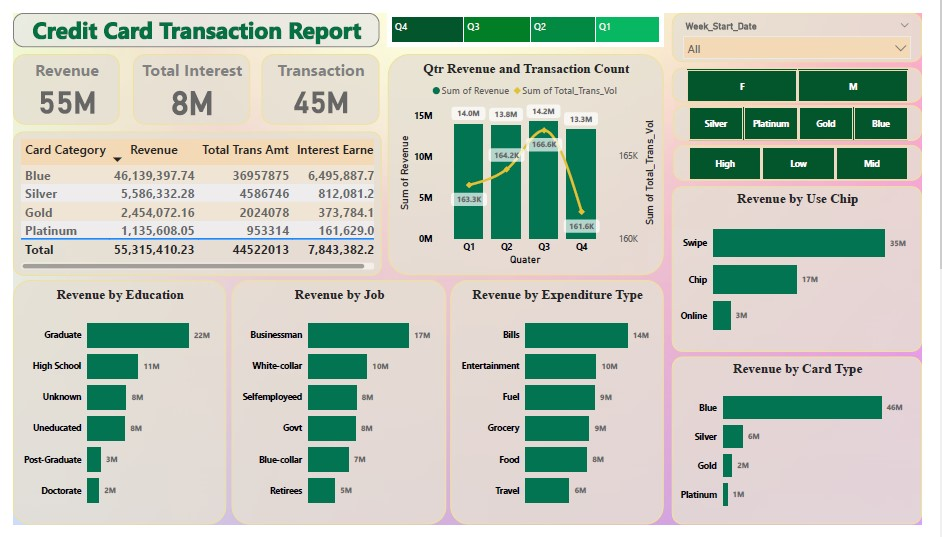

Layout of this report page (visuals, bound fields, positions):
{"tool":"powerbi","page":{"name":"Page 2","canvas":[1280,720],"ordinal":0},"visuals":[{"type":"textbox","box":[0,0,515.9,48.2],"z":0},{"type":"lineStackedColumnComboChart","title":"Qtr Revenue and Transaction Count","fields":{"Y":["Sum(ccdb credit_card.Revenue)"],"Category":["ccdb credit_card.Qtr"],"Y2":["Sum(ccdb credit_card.Total_Trans_Vol)"]},"box":[528.3,57.6,387.7,311.5],"z":1000},{"type":"barChart","title":"Revenue by Expenditure Type","fields":{"Y":["Sum(ccdb credit_card.Revenue)"],"Category":["ccdb credit_card.Exp Type"]},"box":[616.3,375.9,299.7,343.7],"z":2000},{"type":"barChart","title":"Revenue by Job","fields":{"Y":["Sum(ccdb credit_card.Revenue)"],"Category":["ccdb customer.Customer_Job"]},"box":[308.1,375.9,301.4,343.7],"z":3000},{"type":"barChart","title":"Revenue by Education","fields":{"Y":["Sum(ccdb credit_card.Revenue)"],"Category":["ccdb customer.Education_Level"]},"box":[0,375.6,300.5,344.4],"z":4000},{"type":"barChart","title":"Revenue by Card Type","fields":{"Y":["Sum(ccdb credit_card.Revenue)"],"Category":["ccdb credit_card.Card_Category"]},"box":[927.8,484.2,352.2,235.3],"z":5000},{"type":"barChart","title":"Revenue by Use Chip","fields":{"Y":["Sum(ccdb credit_card.Revenue)"],"Category":["ccdb credit_card.Use Chip"]},"box":[927.8,243.8,352.2,233.7],"z":6000},{"type":"tableEx","fields":{"Values":["ccdb credit_card.Card_Category","Sum(ccdb credit_card.Revenue)","Sum(ccdb credit_card.Total_Trans_Amt)","Sum(ccdb credit_card.Interest_Earned)"]},"box":[0,167.2,518.7,202.7],"z":7000},{"type":"card","title":"Revenue","fields":{"Values":["Sum(ccdb credit_card.Revenue)"]},"box":[0,58.1,150.2,99.2],"z":8000},{"type":"card","title":"Total Interest","fields":{"Values":["Sum(ccdb credit_card.Interest_Earned)"]},"box":[168.7,58.1,165.8,99.2],"z":9000},{"type":"card","title":"Transaction","fields":{"Values":["Sum(ccdb credit_card.Total_Trans_Amt)"]},"box":[350.1,58.1,165.8,99.2],"z":10000},{"type":"slicer","fields":{"Values":["ccdb credit_card.Week_Start_Date"]},"box":[928.3,0,351.5,69.4],"z":11000},{"type":"treemap","fields":{"Group":["ccdb credit_card.Qtr"],"Values":["Avg(ccdb credit_card.Client_Num)"]},"box":[528.3,0,387.7,47.4],"z":12000},{"type":"slicer","fields":{"Values":["ccdb customer.Gender"]},"box":[928.3,76.5,351.5,49.6],"z":13000},{"type":"slicer","fields":{"Values":["ccdb credit_card.Card_Category"]},"box":[929.8,130.4,350.1,50],"z":14000},{"type":"slicer","fields":{"Values":["ccdb customer.Income_group"]},"box":[929.8,185.7,350.1,50],"z":15000}]}

Visuals, with their boxes in screenshot pixels (x1, y1, x2, y2), scaled from the page's 1280x720 canvas onto the 942x537 screenshot:
textbox: bbox=(0, 0, 380, 36)
"Qtr Revenue and Transaction Count" lineStackedColumnComboChart: bbox=(389, 43, 674, 275)
"Revenue by Expenditure Type" barChart: bbox=(454, 280, 674, 536)
"Revenue by Job" barChart: bbox=(227, 280, 449, 536)
"Revenue by Education" barChart: bbox=(0, 280, 221, 536)
"Revenue by Card Type" barChart: bbox=(683, 361, 941, 536)
"Revenue by Use Chip" barChart: bbox=(683, 182, 941, 356)
tableEx - ccdb credit_card.Card_Category x Sum(ccdb credit_card.Revenue): bbox=(0, 125, 382, 276)
"Revenue" card: bbox=(0, 43, 111, 117)
"Total Interest" card: bbox=(124, 43, 246, 117)
"Transaction" card: bbox=(258, 43, 380, 117)
slicer - ccdb credit_card.Week_Start_Date: bbox=(683, 0, 941, 52)
treemap - ccdb credit_card.Qtr x Avg(ccdb credit_card.Client_Num): bbox=(389, 0, 674, 35)
slicer - ccdb customer.Gender: bbox=(683, 57, 941, 94)
slicer - ccdb credit_card.Card_Category: bbox=(684, 97, 941, 135)
slicer - ccdb customer.Income_group: bbox=(684, 139, 941, 176)
